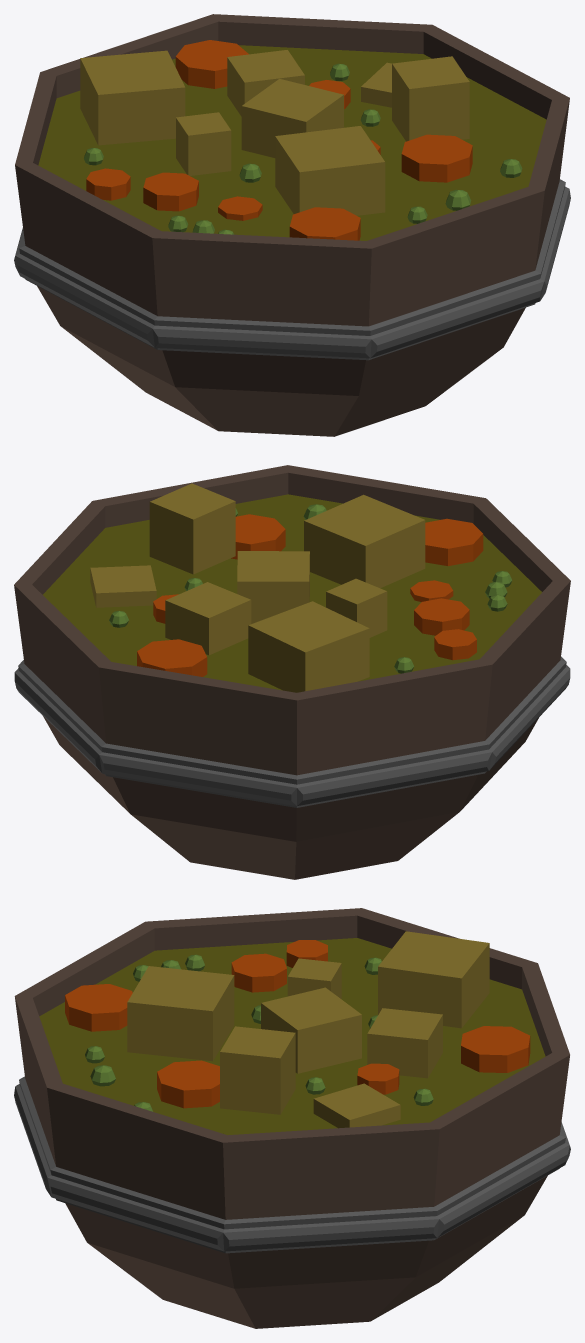
Rendered from Zuppa.fbx.
The picture shows the model from 3 angles, top to bottom: view 1: azimuth 30°, elevation 25°; view 2: azimuth 150°, elevation 25°; view 3: azimuth 270°, elevation 25°; orthographic projection. The views are drawn at different scales.
Parts seen in each view (by area): view 1: Soup.002; view 2: Soup.002; view 3: Soup.002.
Boxes of the visible parts, x1,y1,x2,y2 form: Soup.002: [14, 14, 570, 436]; Soup.002: [14, 465, 570, 879]; Soup.002: [14, 908, 570, 1328].
Bounding box in the file's own units: 56.27 × 31.57 × 56.27.
